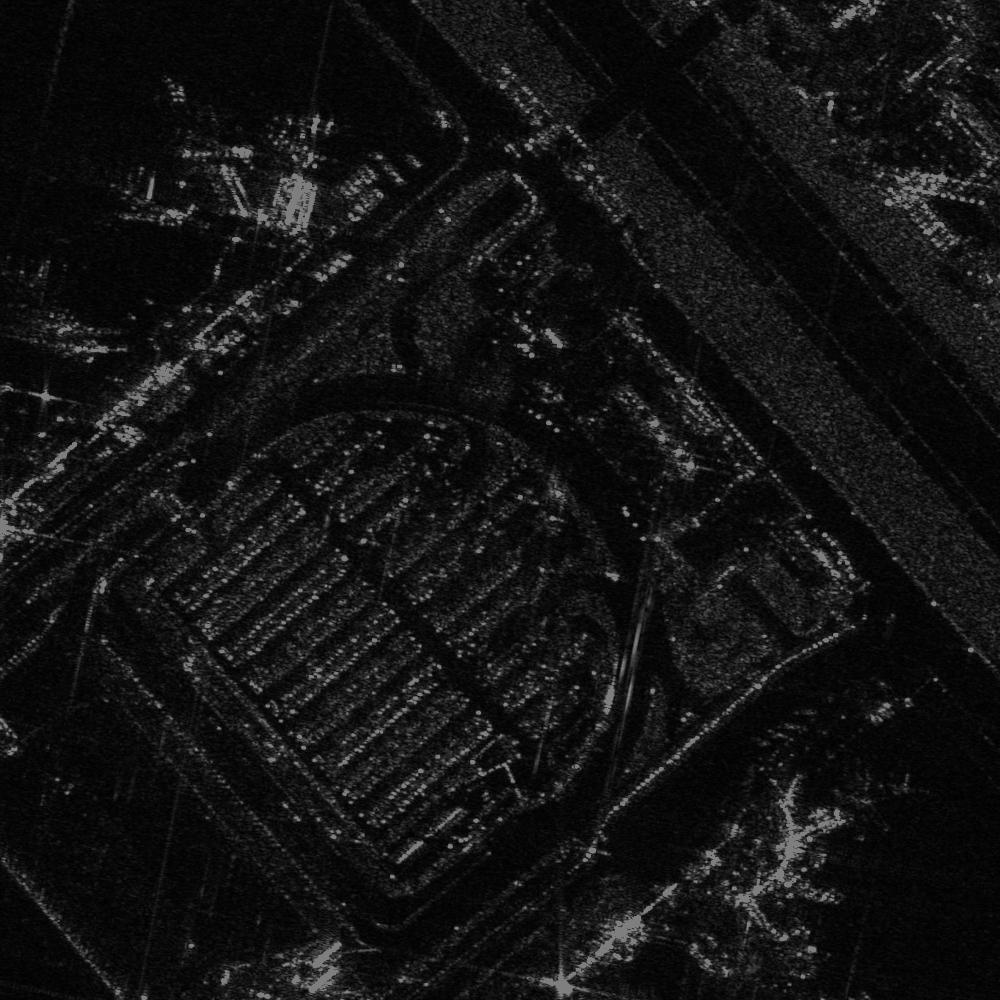Boeing737: (176, 101, 257, 170), (108, 162, 161, 231), (1, 255, 54, 320)
Boeing787: (269, 103, 354, 172)
